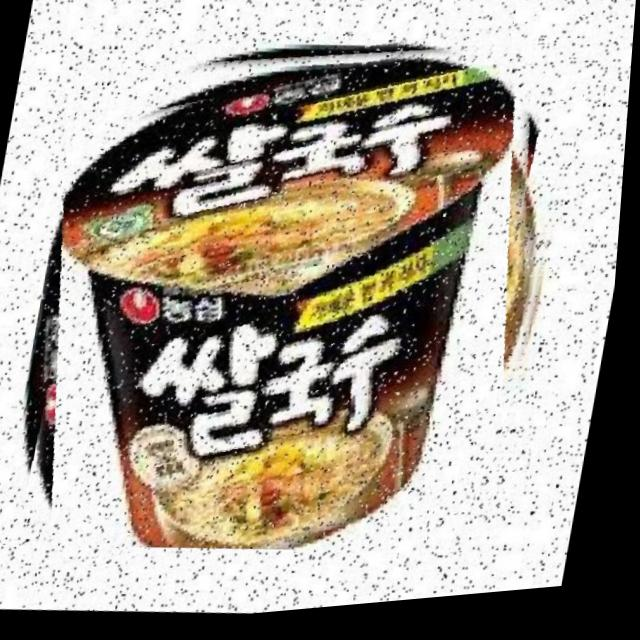Miscellaneous: (2, 0, 596, 598)
